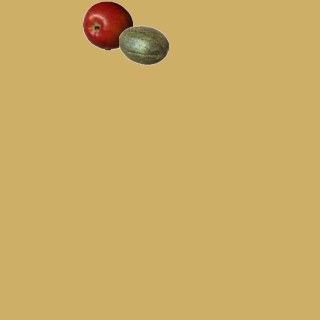Apple Braeburn: (82, 0, 132, 50)
Melon Piel de Sapo: (118, 20, 168, 70)
